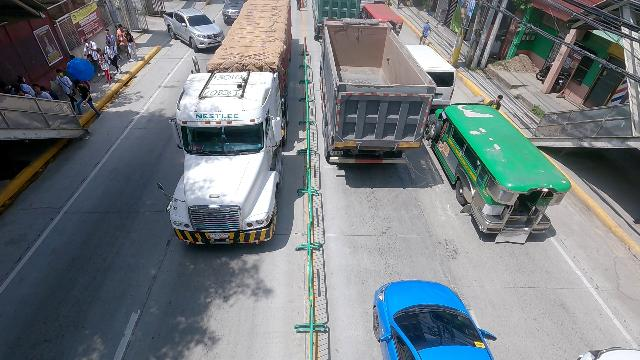car: (373, 279, 497, 359), (221, 0, 247, 25)
jeepney: (425, 102, 571, 241), (362, 1, 405, 32)
pickup-truck: (160, 10, 225, 49)
truck: (160, 19, 295, 249), (320, 15, 435, 176)
van: (412, 41, 456, 103)
